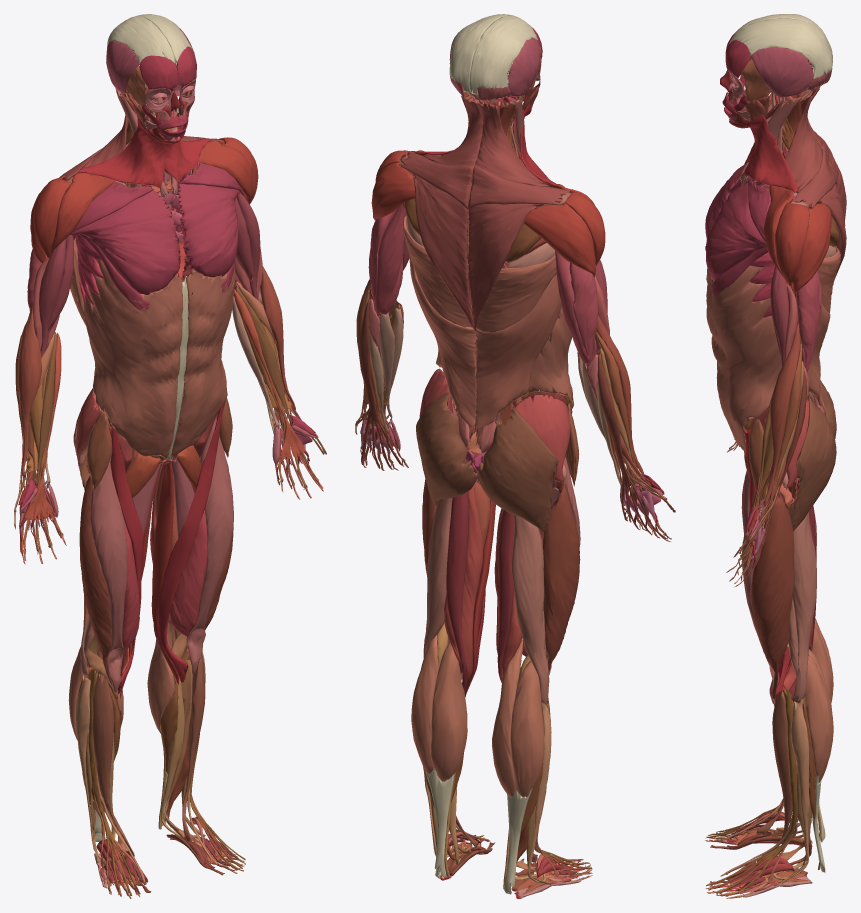
Rendered from muscles.glb.
The picture shows the model from 3 angles, left to right: view 1: azimuth 30°, elevation 25°; view 2: azimuth 150°, elevation 25°; view 3: azimuth 270°, elevation 25°; orthographic projection. The views are drawn at different scales.
Visible parts, largest first — view 1: external-oblique, pectoralis-major, rectus-femoris, deltoid, sartorius, platysma, biceps-brachii, tibialis-anterior, vastus-medialis, vastus-lateralis, brachioradialis, gracilis (+29 smaller); view 2: trapezius, latissimus-dorsi, gastrocnemius, gluteus-maximus, biceps-femoris, deltoid, triceps-brachii, vastus-lateralis, semitendinosus, epicranial-aponeurosis, semimembranosus, extensor-digitorum (+21 smaller); view 3: external-oblique, pectoralis-major, vastus-lateralis, deltoid, trapezius, gluteus-maximus, biceps-femoris, epicranial-aponeurosis, gastrocnemius, temporoparietalis, platysma, brachioradialis (+35 smaller).
Boxes of the visible parts, x1,y1,x2,y2 form: external-oblique: (83, 260, 235, 458); pectoralis-major: (69, 162, 243, 310); rectus-femoris: (90, 418, 233, 692); deltoid: (30, 137, 258, 263); sartorius: (108, 400, 225, 697); platysma: (78, 112, 210, 187); biceps-brachii: (39, 193, 260, 356); tibialis-anterior: (92, 649, 205, 856); vastus-medialis: (122, 510, 207, 658); vastus-lateralis: (79, 475, 233, 685); brachioradialis: (19, 266, 295, 477); gracilis: (120, 459, 179, 698); trapezius: (400, 97, 569, 331); latissimus-dorsi: (403, 216, 561, 428); gastrocnemius: (411, 634, 544, 797); gluteus-maximus: (416, 391, 558, 532); biceps-femoris: (423, 498, 549, 704); deltoid: (371, 150, 605, 277); triceps-brachii: (368, 204, 598, 365); vastus-lateralis: (422, 479, 580, 671); semitendinosus: (446, 492, 514, 692); epicranial-aponeurosis: (449, 14, 538, 94); semimembranosus: (444, 486, 522, 682); extensor-digitorum: (358, 298, 666, 538); external-oblique: (706, 266, 781, 451); pectoralis-major: (705, 165, 770, 296); vastus-lateralis: (751, 495, 794, 698); deltoid: (763, 130, 831, 294); trapezius: (785, 86, 846, 276); gluteus-maximus: (789, 380, 836, 530); biceps-femoris: (788, 512, 816, 701); epicranial-aponeurosis: (729, 14, 832, 78); gastrocnemius: (805, 619, 833, 782); temporoparietalis: (750, 46, 813, 97); platysma: (729, 114, 797, 192); brachioradialis: (763, 321, 800, 507).
Bounding box in the file's own units: 2.56 × 6.59 × 1.
